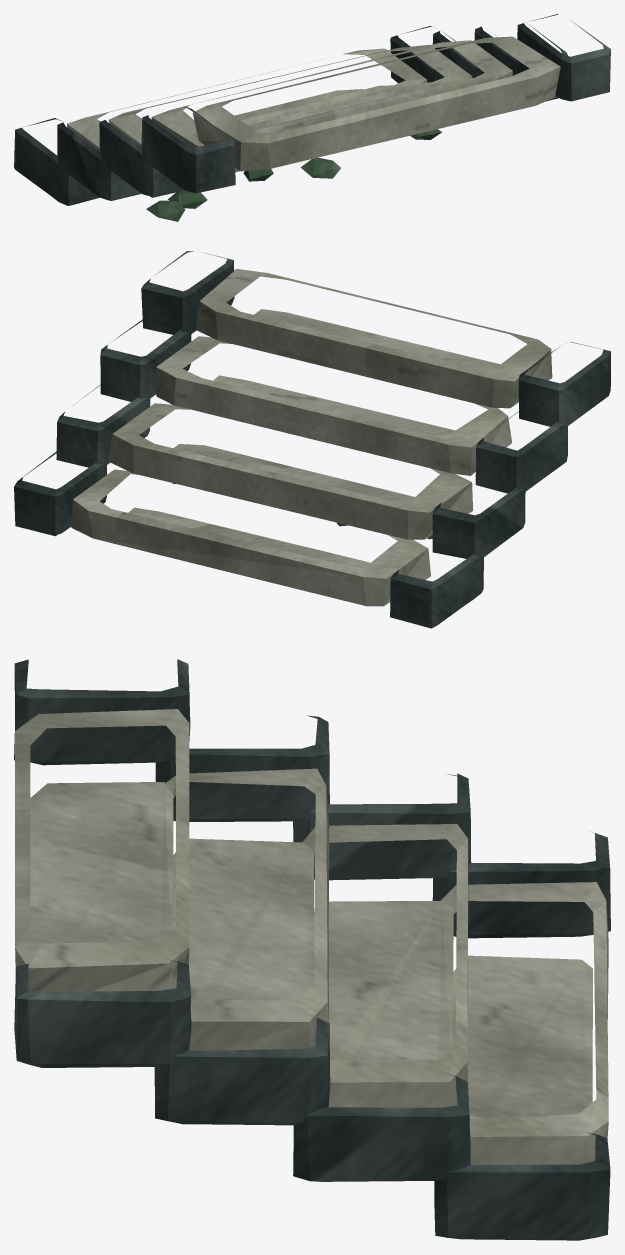
The model's file is 0356_stairs_06.glb.
3 views of the same model, one above another, from view 1: azimuth 30°, elevation 25°; view 2: azimuth 150°, elevation 25°; view 3: azimuth 270°, elevation 25° (orthographic). The views are drawn at different scales.
Visible parts, largest first — view 1: stone_light, stone_dark, moss; view 2: stone_light, stone_dark; view 3: stone_light, stone_dark.
Boxes of the visible parts, box(x1,y1,x2,y2) form: stone_light: box(67, 36, 560, 172); stone_dark: box(14, 14, 610, 205); moss: box(146, 129, 441, 221); stone_light: box(71, 269, 552, 606); stone_dark: box(14, 251, 610, 628); stone_light: box(15, 709, 608, 1164); stone_dark: box(14, 659, 610, 1240).
Bounding box in the file's own units: 2.54 × 0.8699 × 1.88.
3 materials, 3 textured.
